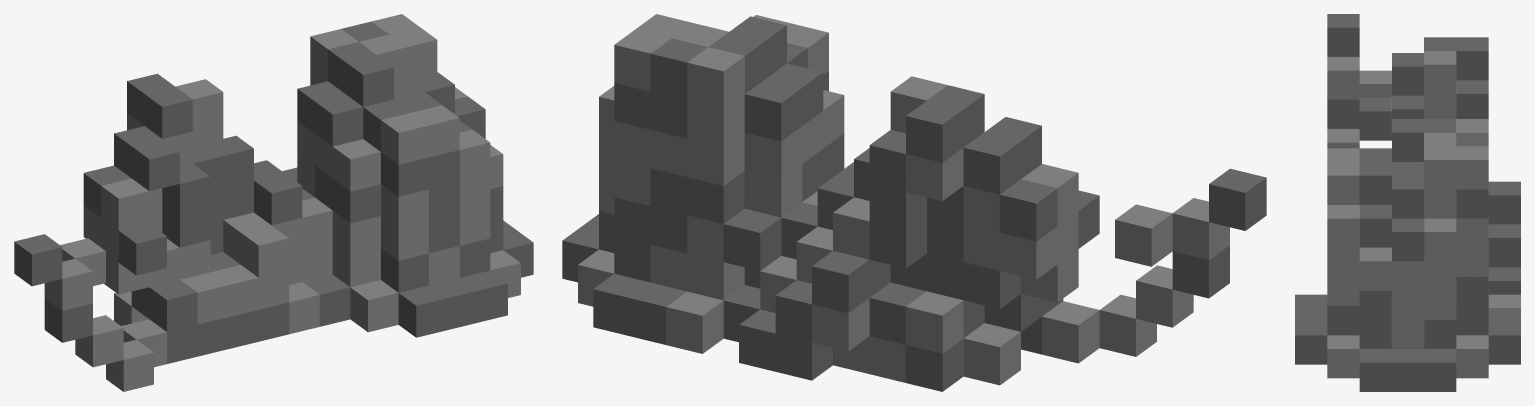
File: Statue_Borken.glb
3 renders of one model, left to right at view 1: azimuth 30°, elevation 25°; view 2: azimuth 150°, elevation 25°; view 3: azimuth 270°, elevation 25°, orthographic. The views are drawn at different scales.
Parts seen in each view (by area): view 1: Statue_Borken; view 2: Statue_Borken; view 3: Statue_Borken.
Boxes of the visible parts, box(x1,y1,x2,y2) form: Statue_Borken: box(14, 14, 533, 391); Statue_Borken: box(562, 14, 1266, 391); Statue_Borken: box(1295, 14, 1520, 391).
Size of the model in its own units: 1.7 by 0.7 by 0.7.
1 material, 1 textured.
